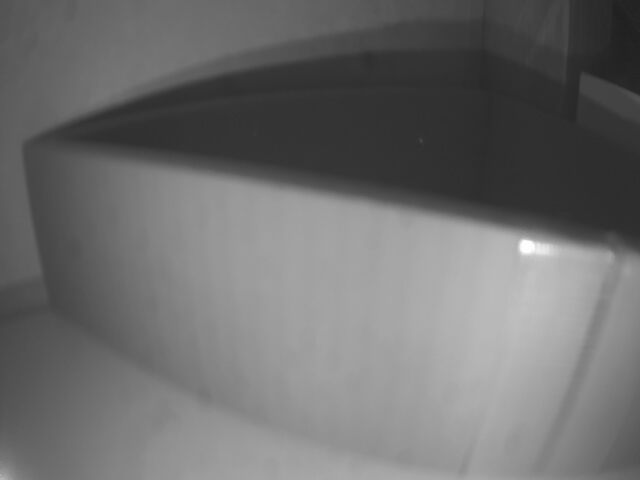Green: (25, 137, 640, 474)
